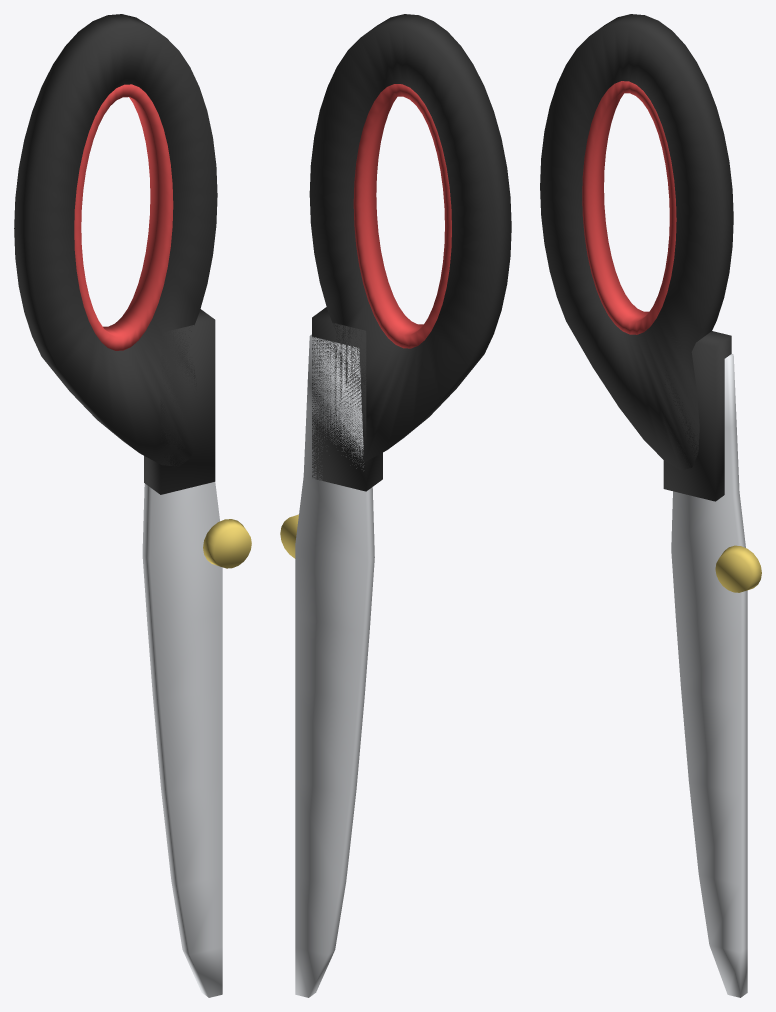
File: pivot_half.glb
3 views of the same model, side by side, from view 1: azimuth 30°, elevation 25°; view 2: azimuth 150°, elevation 25°; view 3: azimuth 330°, elevation 25° (orthographic). The views are drawn at different scales.
Visible parts, largest first — view 1: pivot_half.001; view 2: pivot_half.001; view 3: pivot_half.001.
Part boxes in pixels (box(x1,y1,x2,y2)): pivot_half.001: box(14, 14, 251, 997); pivot_half.001: box(280, 14, 511, 997); pivot_half.001: box(540, 14, 761, 997).
Bounding box in the file's own units: 0.0493 × 0.21 × 0.0064.
